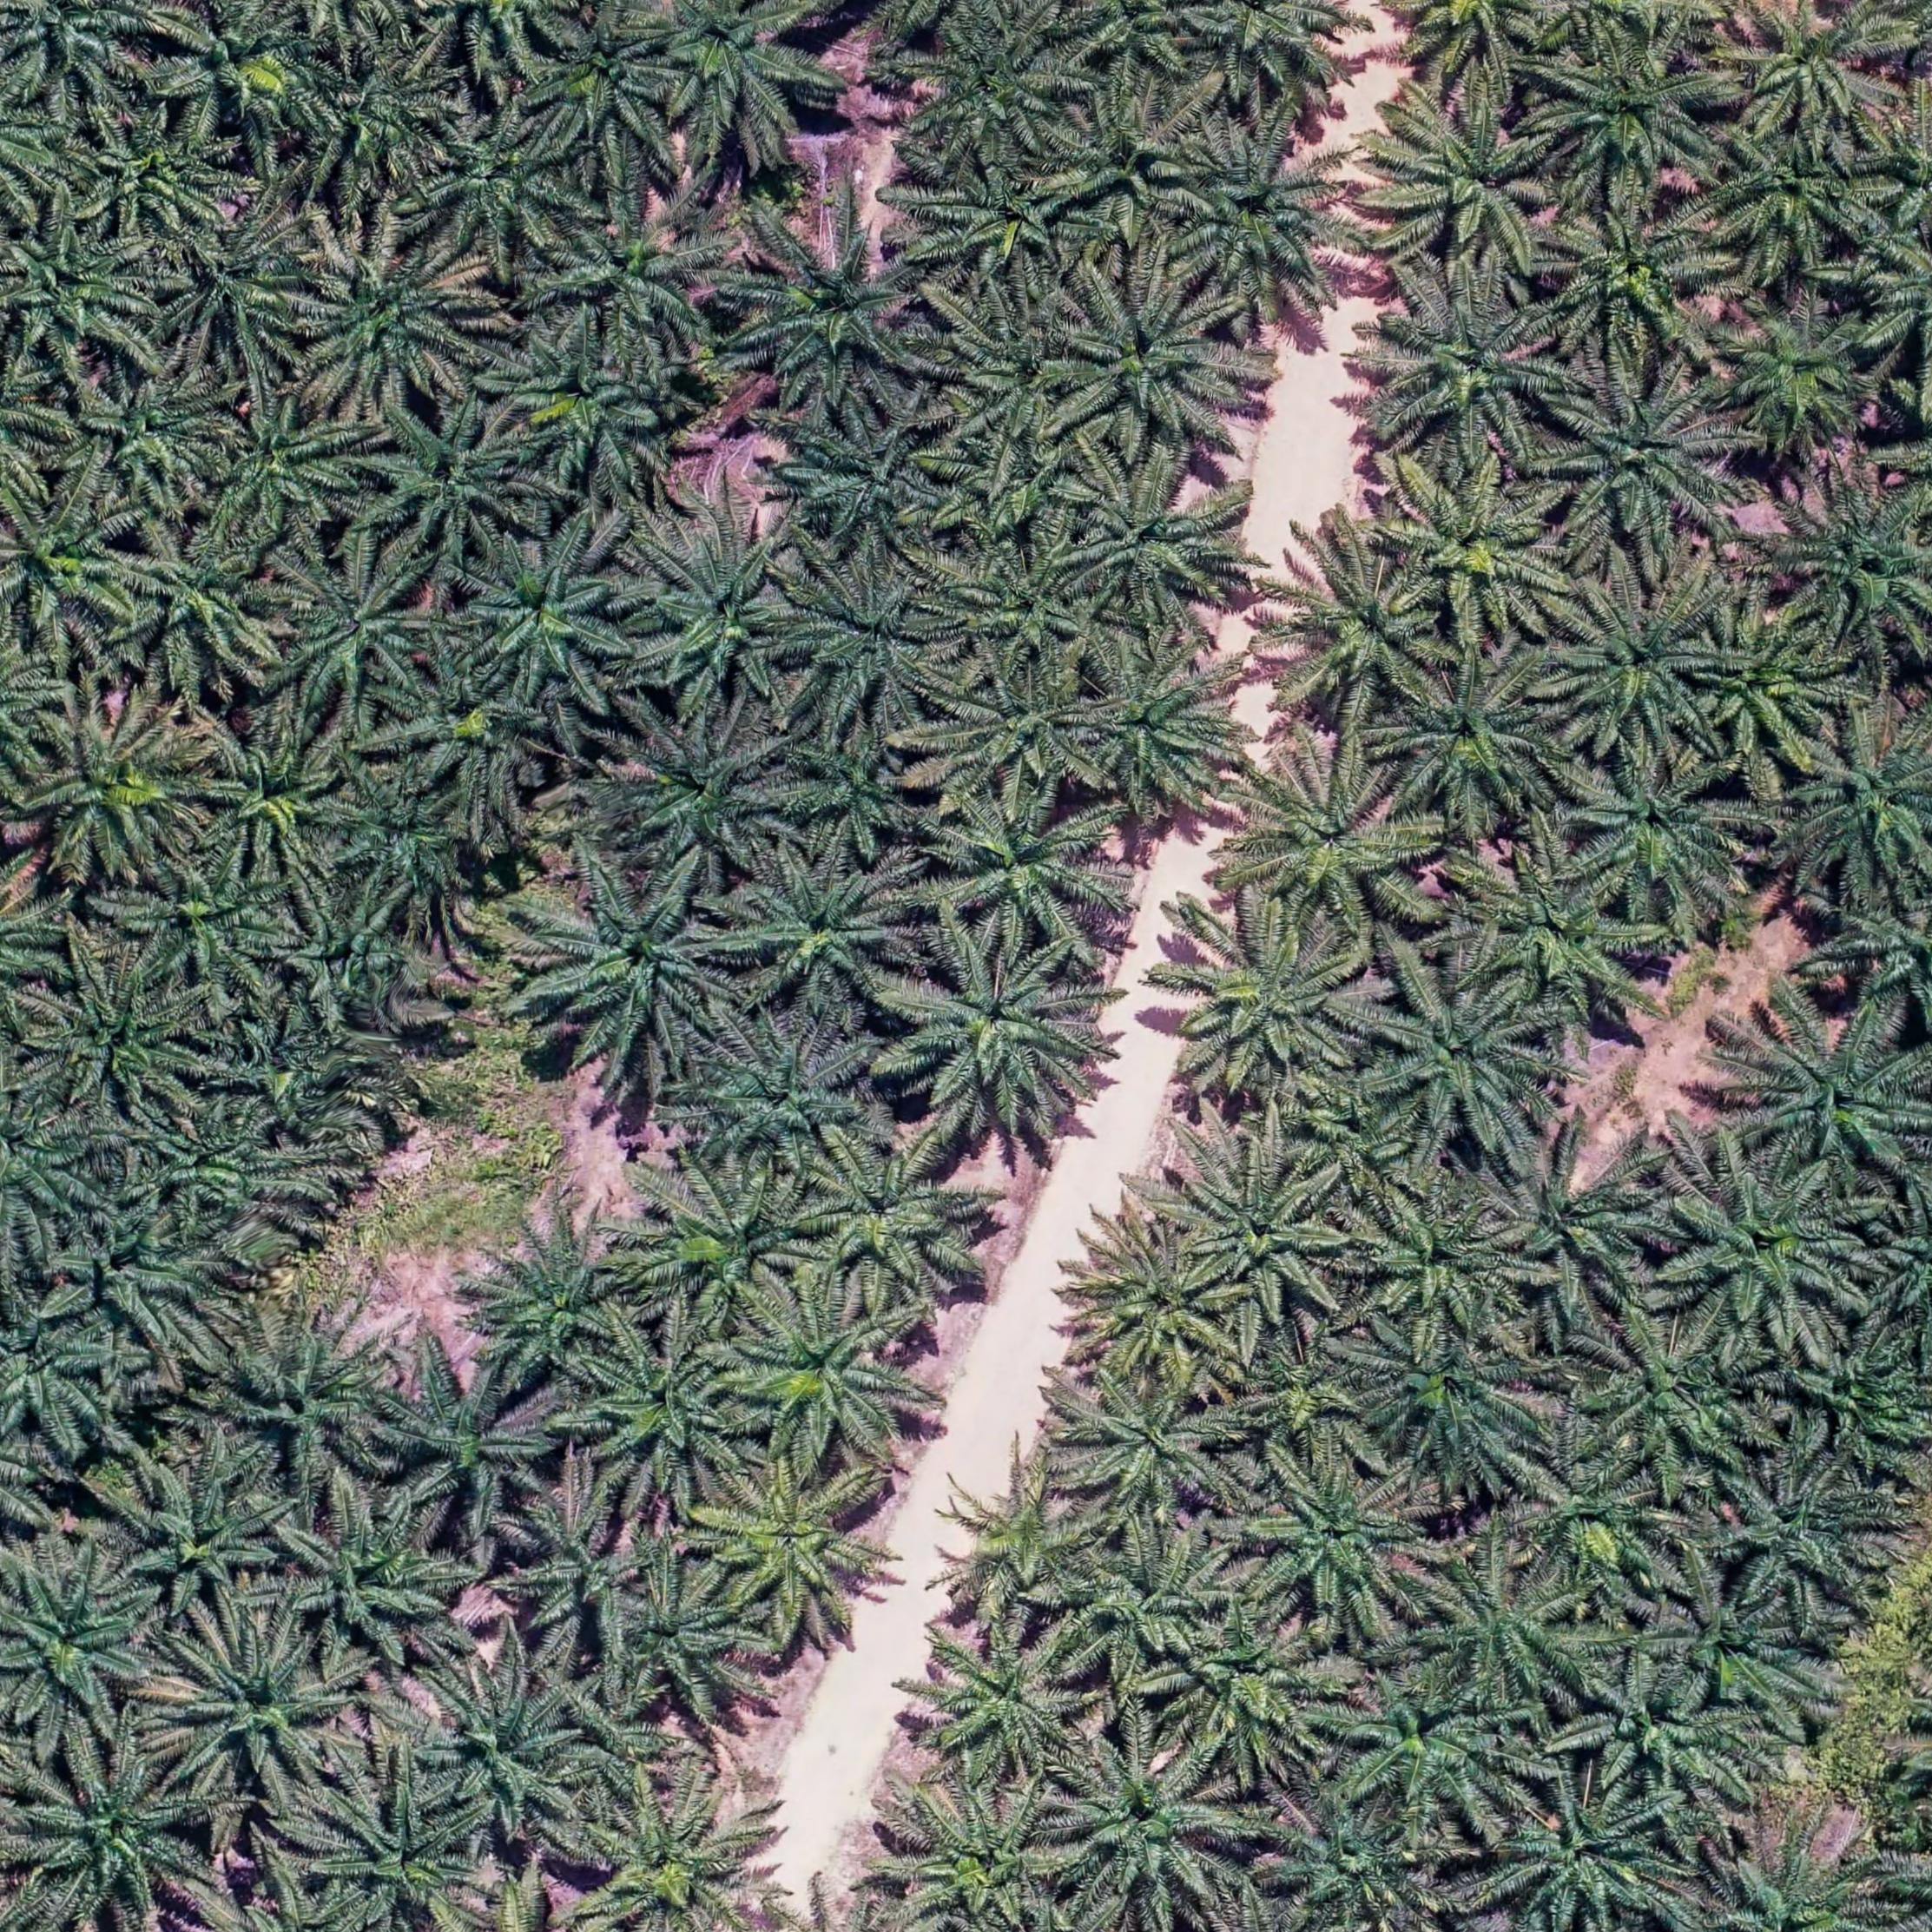palmtree: (729, 205, 950, 416), (886, 932, 1109, 1139), (524, 862, 745, 1067), (1228, 743, 1449, 945), (1159, 119, 1373, 320), (1451, 839, 1665, 1035), (1366, 85, 1575, 281), (1169, 904, 1378, 1099), (1539, 359, 1743, 552), (1668, 1159, 1875, 1348), (1371, 271, 1575, 460), (1054, 262, 1251, 455), (159, 1615, 361, 1803), (212, 1302, 409, 1493), (1053, 1730, 1249, 1920), (1534, 21, 1736, 205), (630, 515, 814, 711), (1736, 1003, 1932, 1187), (701, 1456, 897, 1640), (490, 320, 690, 499), (1562, 745, 1759, 925), (1267, 538, 1454, 725), (416, 1656, 600, 1847), (18, 1743, 214, 1921), (1369, 970, 1559, 1154), (1384, 462, 1578, 640), (1355, 1315, 1557, 1486), (1543, 570, 1727, 757), (1173, 1143, 1359, 1327), (25, 697, 211, 879), (570, 1325, 759, 1504), (1537, 191, 1729, 368), (734, 1288, 925, 1465), (1583, 1315, 1782, 1484), (295, 230, 483, 409), (1389, 651, 1575, 830), (276, 1495, 464, 1672), (1249, 1454, 1438, 1628), (1330, 1660, 1523, 1829), (796, 1129, 980, 1306), (545, 188, 731, 363), (640, 1166, 832, 1336), (1155, 1606, 1346, 1776), (1486, 1131, 1672, 1302), (936, 784, 1123, 954), (1077, 639, 1253, 819), (115, 513, 297, 686), (264, 545, 442, 720), (145, 205, 327, 377), (616, 713, 800, 883), (111, 1453, 295, 1622), (379, 1357, 559, 1529), (690, 1014, 878, 1178), (902, 9, 1090, 173), (777, 407, 964, 571), (1769, 472, 1932, 662), (1065, 460, 1246, 630), (646, 0, 844, 154), (464, 531, 639, 704), (778, 564, 961, 731), (357, 402, 540, 568), (571, 1780, 770, 1932), (1713, 288, 1893, 455), (1490, 1776, 1681, 1932), (120, 851, 303, 1014), (736, 856, 920, 1017), (1706, 122, 1893, 280), (32, 959, 211, 1123), (1564, 1656, 1760, 1805), (0, 1562, 163, 1741), (1067, 1362, 1247, 1523), (384, 646, 554, 814), (890, 1782, 1079, 1932), (1346, 1184, 1530, 1338), (918, 1621, 1092, 1783), (941, 1465, 1116, 1626), (1419, 1553, 1599, 1707), (313, 1780, 495, 1932), (1782, 715, 1932, 899), (1076, 1221, 1247, 1382), (1261, 1785, 1449, 1932), (1723, 0, 1913, 145), (1716, 1460, 1895, 1612), (1063, 1529, 1240, 1681), (938, 658, 1116, 809), (913, 154, 1093, 303), (1683, 602, 1847, 763), (1042, 83, 1207, 244), (202, 387, 373, 541), (196, 724, 363, 881), (476, 1226, 642, 1382), (520, 7, 674, 175), (64, 363, 234, 515), (938, 290, 1097, 449), (154, 0, 329, 143), (0, 209, 159, 366), (426, 106, 587, 262), (292, 44, 458, 193), (1516, 1440, 1677, 1592), (1173, 0, 1378, 119), (502, 1495, 651, 1656), (272, 883, 433, 1031), (773, 718, 941, 860), (331, 764, 488, 915), (0, 478, 142, 644), (603, 1568, 761, 1716), (71, 103, 235, 244), (1783, 1323, 1932, 1479), (1654, 1569, 1813, 1711), (1228, 1323, 1384, 1467), (1695, 1831, 1902, 1932), (957, 545, 1106, 685), (0, 0, 166, 106), (0, 1083, 103, 1253), (145, 1111, 301, 1221), (0, 1293, 108, 1451), (1297, 1085, 1431, 1208), (1826, 881, 1932, 1033), (1387, 0, 1569, 85), (563, 1684, 685, 1806), (1065, 0, 1223, 87)
